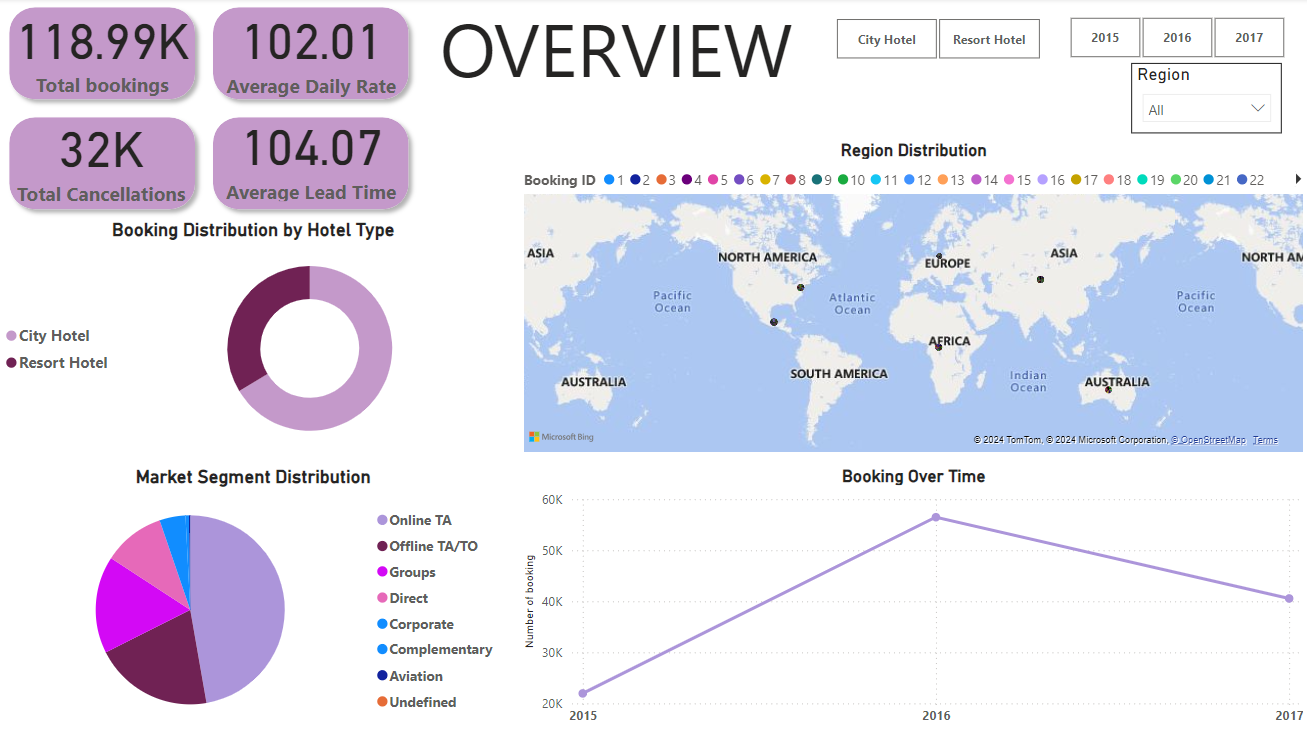

Layout of this report page (visuals, bound fields, positions):
{"tool":"powerbi","page":{"name":"OVERVIEW","canvas":[1280,720],"ordinal":0},"visuals":[{"type":"pieChart","title":"Market Segment Distribution","fields":{"Category":["hotel_bookings.market_segment"],"Y":["CountNonNull(hotel_bookings.Booking ID)"]},"box":[0,457.8,495.6,262],"z":0},{"type":"donutChart","title":"Booking Distribution by Hotel Type","fields":{"Category":["hotel_bookings.hotel"],"Y":["CountNonNull(hotel_bookings.Booking ID)"]},"box":[0,216.1,495.6,232.3],"z":1000},{"type":"textbox","box":[425.4,0,390.3,102.6],"z":2000},{"type":"slicer","fields":{"Values":["hotel_bookings.Date .Variation.Date Hierarchy.Year"]},"box":[1020.7,12.2,259.3,52.7],"z":3000},{"type":"shape","box":[0,0,199.9,108],"z":4000},{"type":"card","fields":{"Values":["CountNonNull(hotel_bookings.Booking ID)"]},"box":[9.5,0,181,108],"z":5000},{"type":"shape","box":[199.9,0,209.3,108],"z":6000},{"type":"shape","box":[0,108,199.9,108],"z":7000},{"type":"shape","box":[199.9,108,209.3,108],"z":8000},{"type":"card","fields":{"Values":["hotel_bookings.Average ADR"]},"box":[213.4,0,183.7,108],"z":9000},{"type":"card","fields":{"Values":["hotel_bookings.Total Cancellations"]},"box":[6.8,108,183.7,95.9],"z":10000},{"type":"card","fields":{"Values":["hotel_bookings.Average Lead Time"]},"box":[213.4,102.6,183.7,101.3],"z":11000},{"type":"slicer","fields":{"Values":["hotel_bookings.hotel"]},"box":[792.7,13.5,248.5,52.7],"z":12000},{"type":"lineChart","title":"Booking Over Time","fields":{"Category":["hotel_bookings.arrival_date_year"],"Y":["CountNonNull(hotel_bookings.Booking ID)"]},"box":[507.5,457.3,772.8,262.9],"z":13000},{"type":"slicer","title":"Region","fields":{"Values":["Geo data.region","Geo data.Country"]},"box":[1106.1,63.5,147.2,68.9],"z":14000},{"type":"map","title":"Region Distribution","fields":{"Category":["Geo data.region"],"Series":["hotel_bookings.Booking ID"]},"box":[507.5,138.2,772.8,310.6],"z":15000}]}

Visuals, with their boxes in screenshot pixels (x1, y1, x2, y2), scaled from the page's 1280x720 canvas onto the 1307x732 screenshot:
"Market Segment Distribution" pieChart: <box>0,465,506,731</box>
"Booking Distribution by Hotel Type" donutChart: <box>0,220,506,456</box>
textbox: <box>434,0,833,104</box>
slicer - hotel_bookings.Date .Variation.Date Hierarchy.Year: <box>1042,12,1306,66</box>
shape: <box>0,0,204,110</box>
card - CountNonNull(hotel_bookings.Booking ID): <box>10,0,195,110</box>
shape: <box>204,0,418,110</box>
shape: <box>0,110,204,220</box>
shape: <box>204,110,418,220</box>
card - hotel_bookings.Average ADR: <box>218,0,405,110</box>
card - hotel_bookings.Total Cancellations: <box>7,110,195,207</box>
card - hotel_bookings.Average Lead Time: <box>218,104,405,207</box>
slicer - hotel_bookings.hotel: <box>809,14,1063,67</box>
"Booking Over Time" lineChart: <box>518,465,1306,731</box>
"Region" slicer: <box>1129,65,1280,135</box>
"Region Distribution" map: <box>518,141,1306,456</box>
